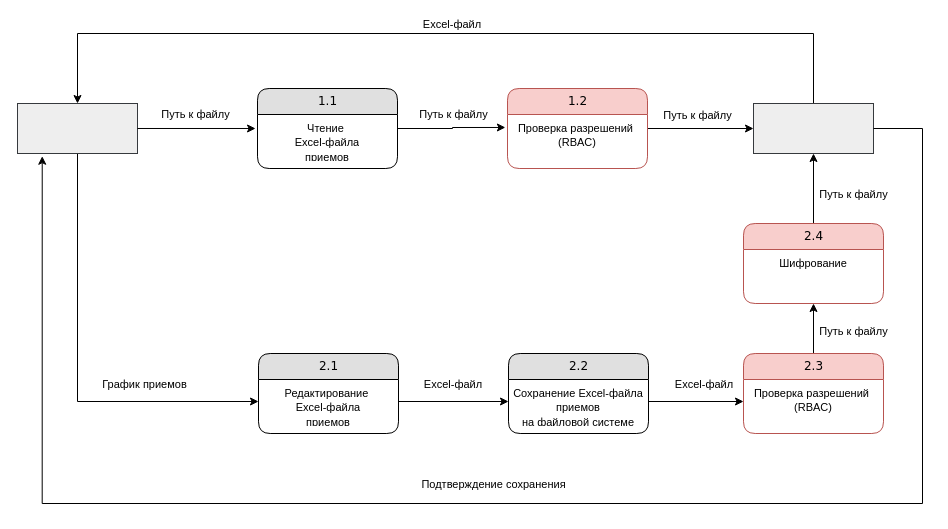
This 948x529 diagram has some shape labels left out. Each missing label, with the centre of its shape:
Доктор: the point at 77,128
Файловая система: the point at 813,128
